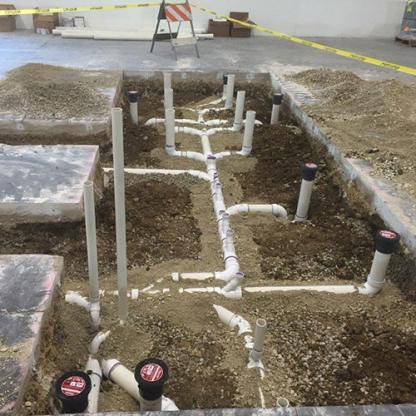PVC: (127, 73, 319, 289), (64, 105, 181, 412), (100, 229, 399, 301), (212, 304, 289, 407), (176, 111, 211, 153), (256, 93, 284, 125)
